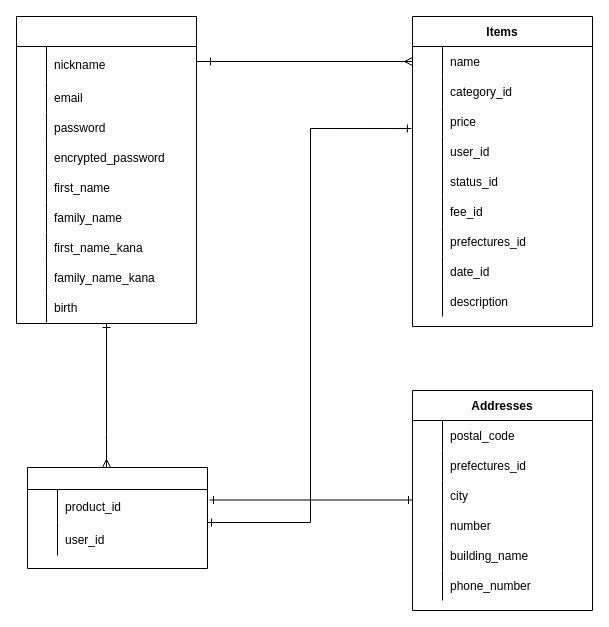
This 609x627 diagram has some shape labels left out. Each missing label, with the box of its shape:
Orders: (26, 466, 208, 568)
Users: (16, 16, 196, 324)
